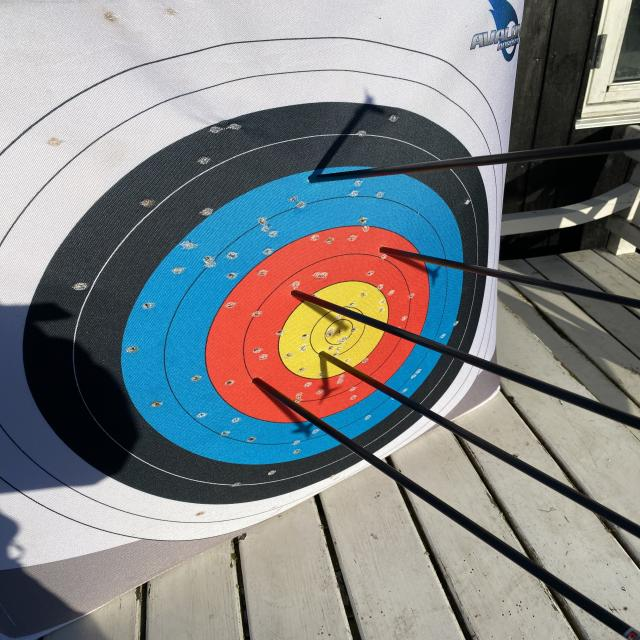Arrow_Blue: (302, 160, 332, 198)
Arrow_Red: (272, 279, 323, 312), (238, 363, 270, 394), (369, 233, 397, 264)
Arrow_Yellow: (302, 345, 348, 375)
